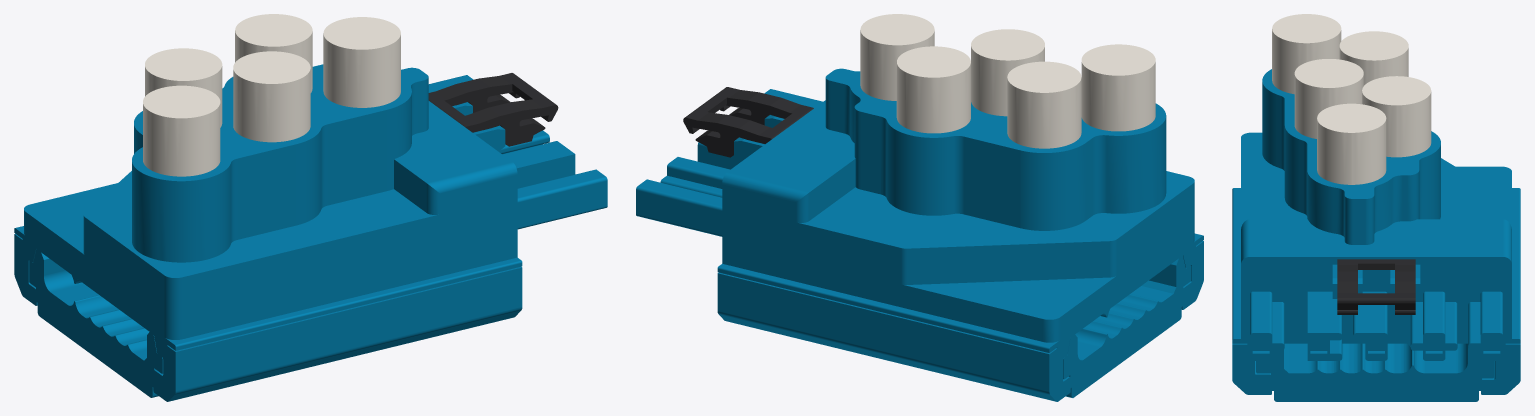
File: wago.gltf
The picture shows the model from 3 angles, left to right: view 1: azimuth 30°, elevation 25°; view 2: azimuth 150°, elevation 25°; view 3: azimuth 270°, elevation 25°; orthographic projection. The views are drawn at different scales.
Visible parts, largest first — view 1: wago; view 2: wago; view 3: wago.
Part boxes in pixels (<box>): wago: <box>14,14,607,401</box>; wago: <box>636,14,1203,401</box>; wago: <box>1232,14,1520,401</box>.
Size of the model in its own units: 0.079 by 0.0465 by 0.05.
